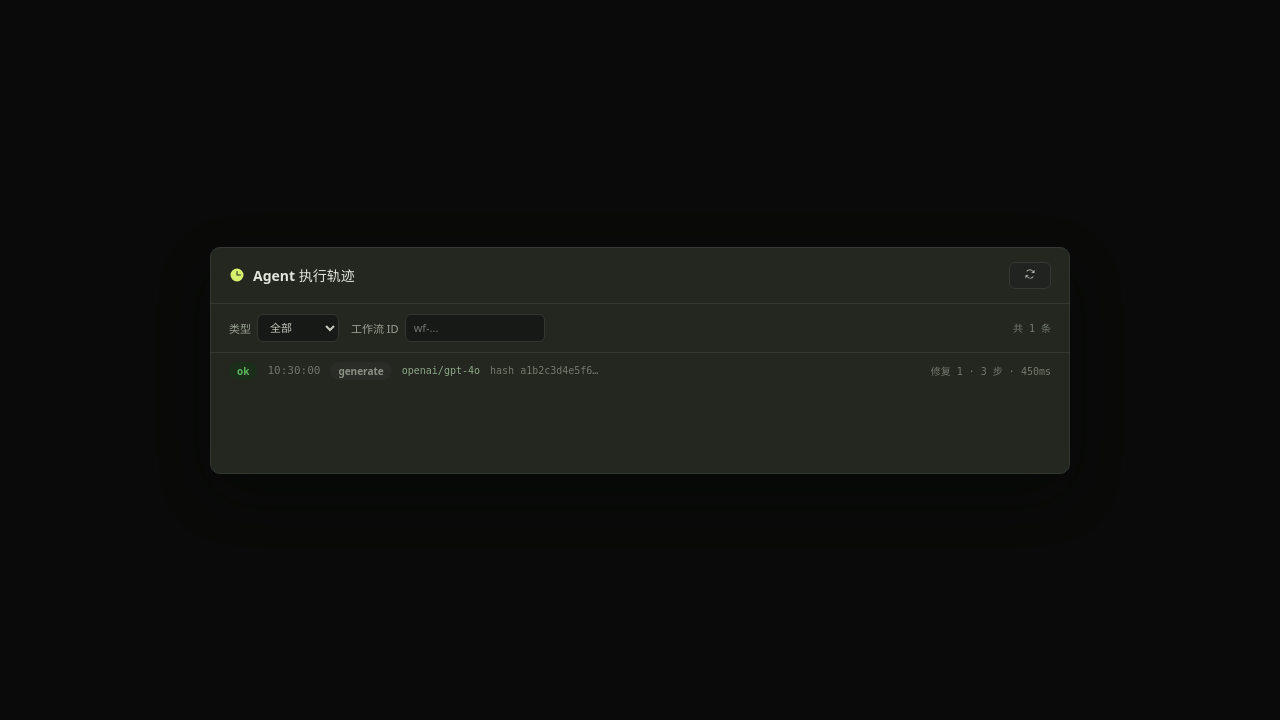
AgentTracePanel › selecting a row fetches detail and renders steps in seq order
This screenshot has width=1280, height=720.
What coordinates should you click on to do the following:
click the button with aria-label "轨迹 trc-1"
I would click on:
 (294, 370)
Its box is [211,352,1069,388].
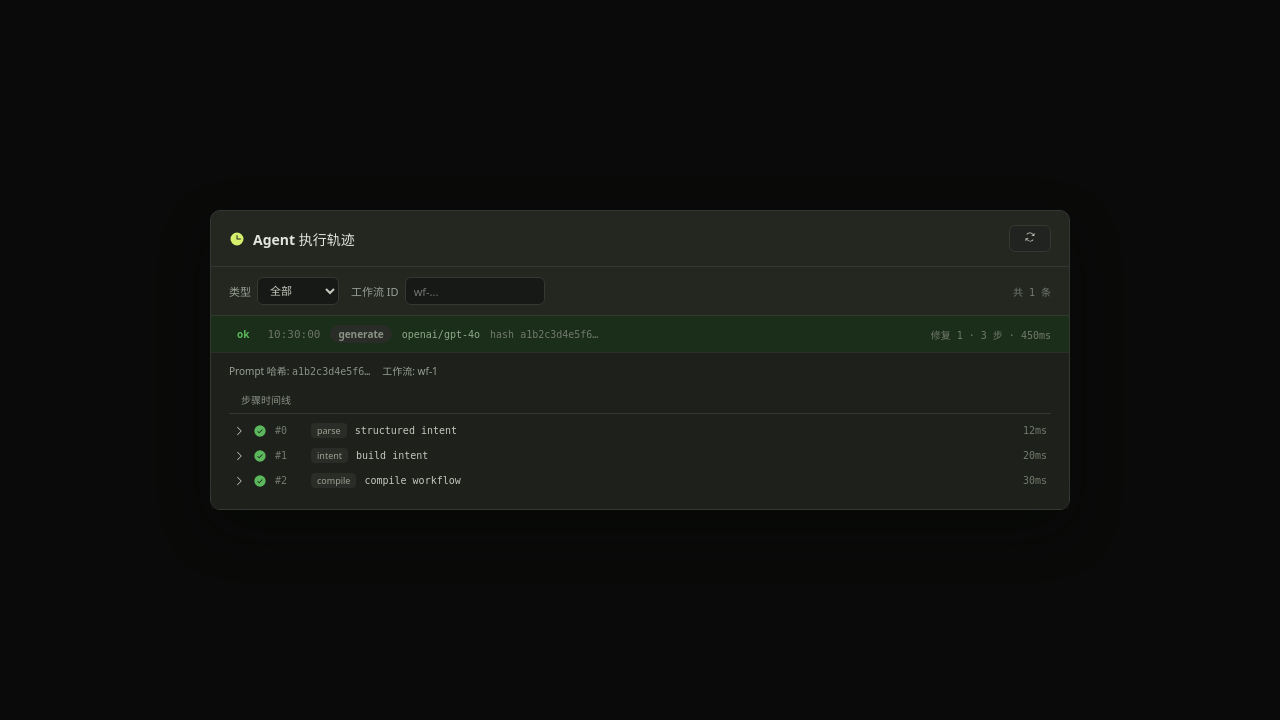
expect the text "structured_intent" is shown: met, box [355,425,457,436]
